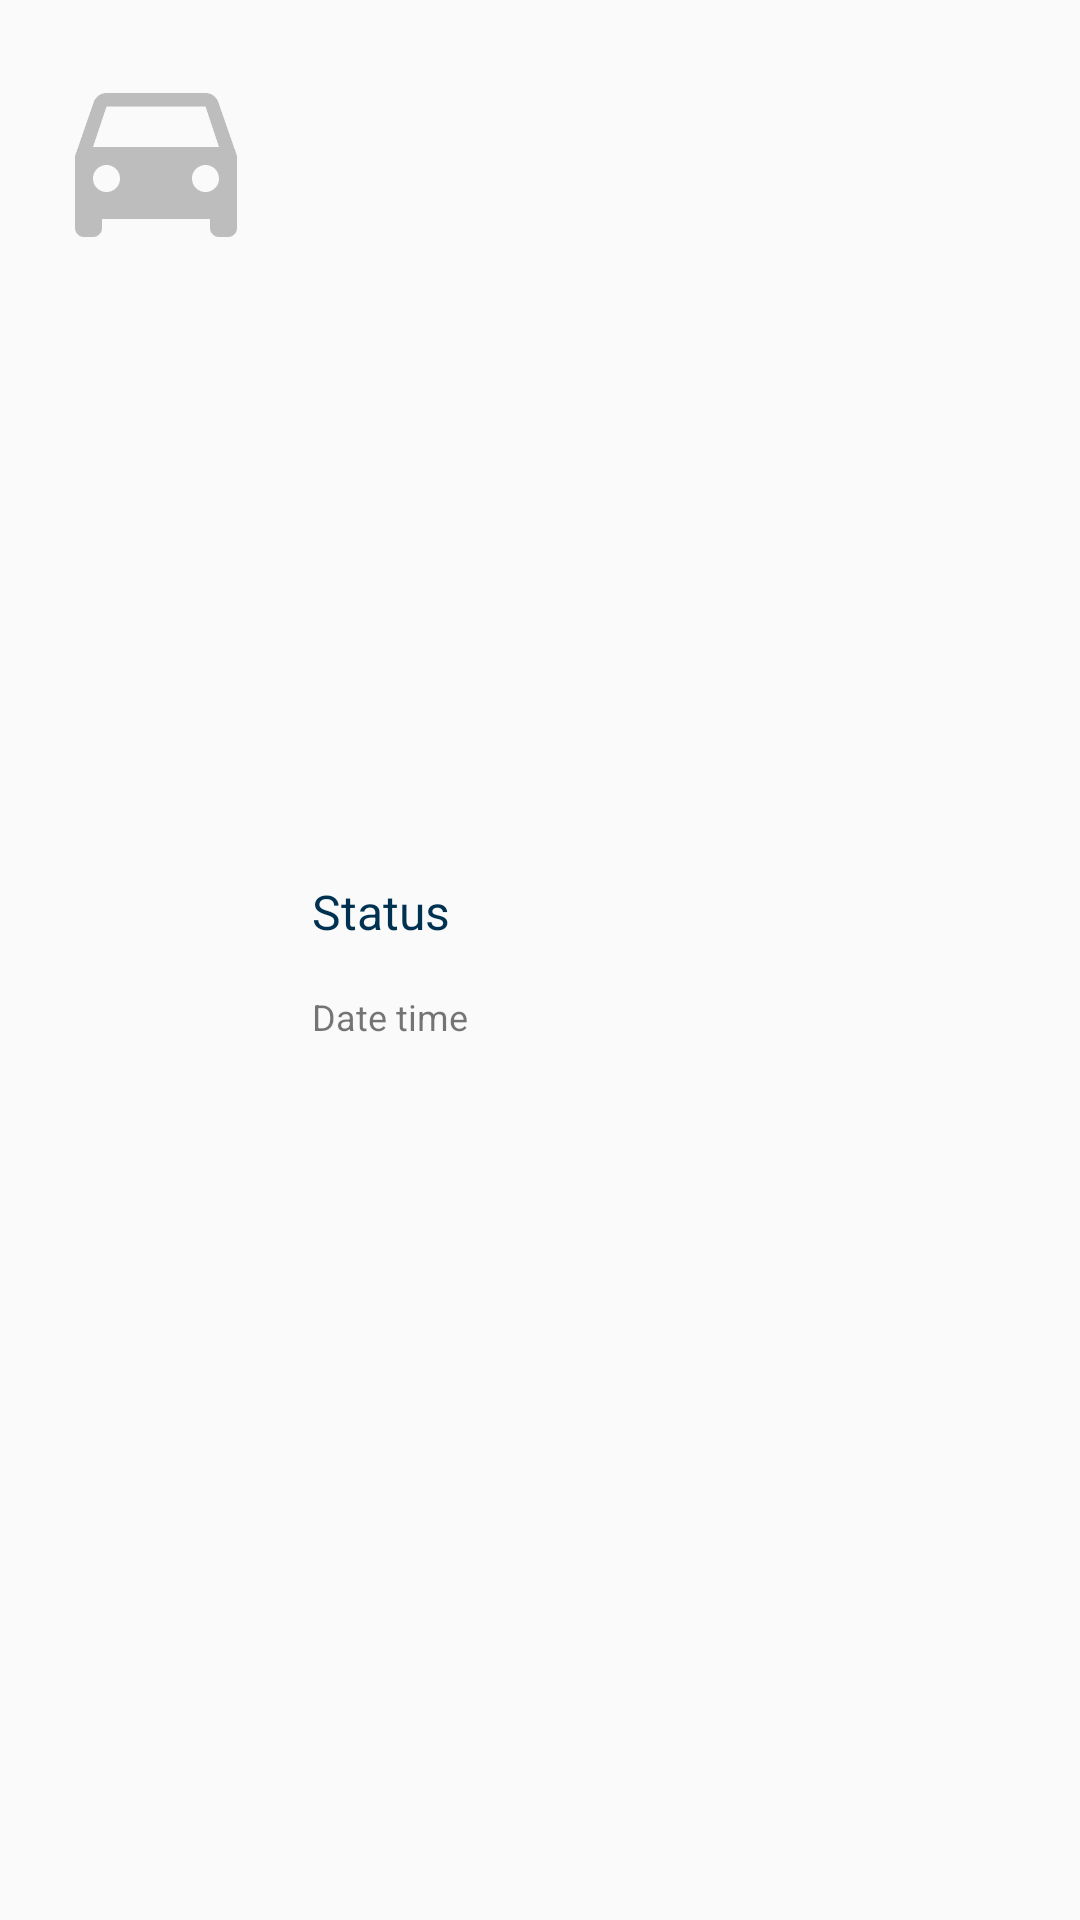

Icons on this 1080w x 1920h Android screen, each with the point to tap as (x,y):
directions car: (156,165)
